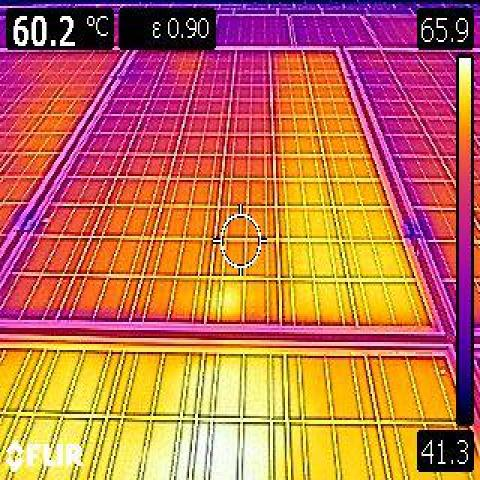fault: (267, 46, 436, 332)
